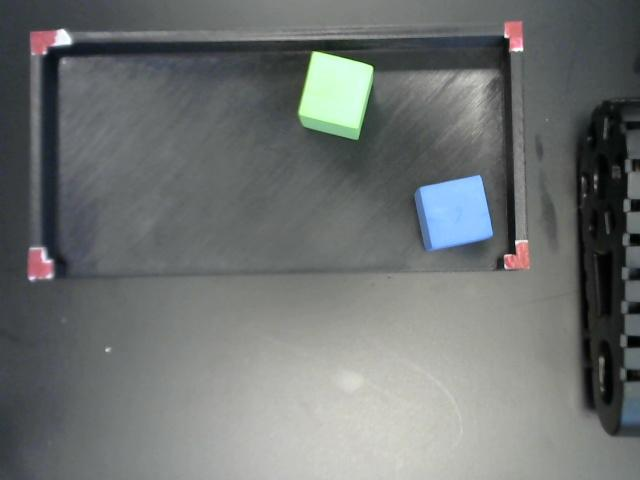cube: (295, 54, 375, 141), (417, 173, 491, 253)
